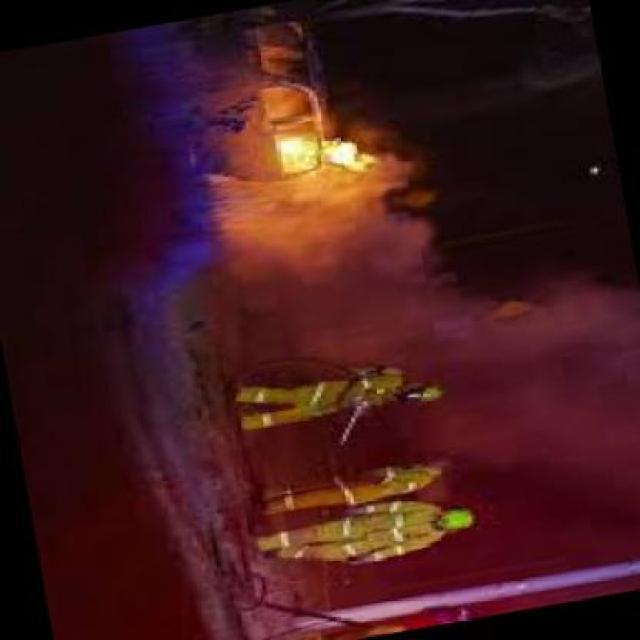Fire: (273, 119, 387, 184)
Smoke: (460, 278, 640, 558), (227, 185, 463, 359)
